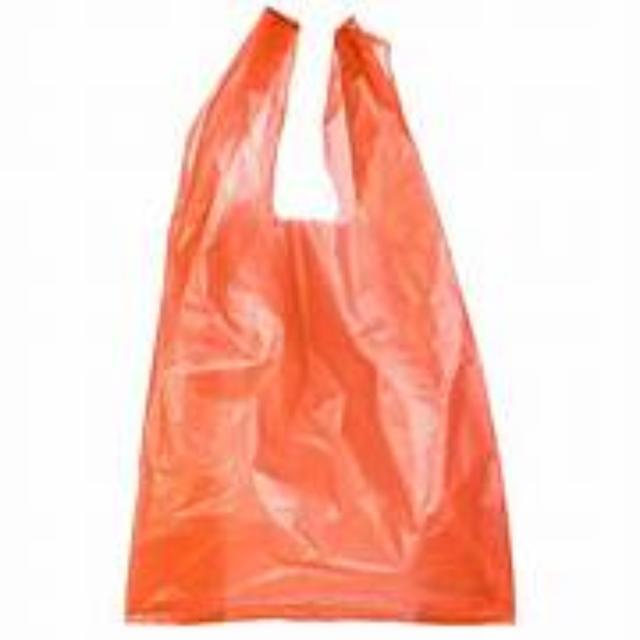Bolsa-de-plastico: (122, 8, 516, 628)
